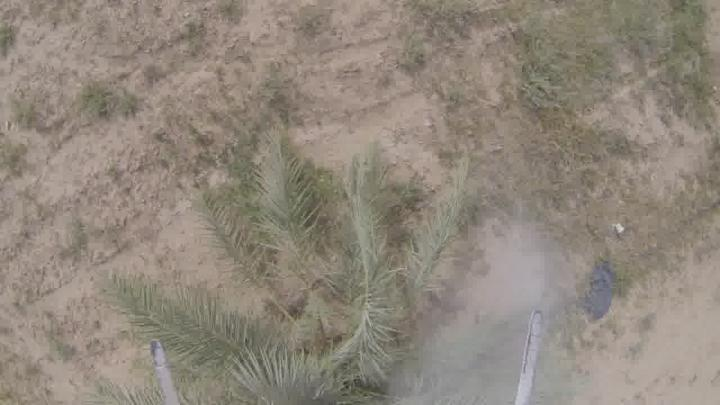Date-Palm-Crown: (241, 193, 486, 405)
